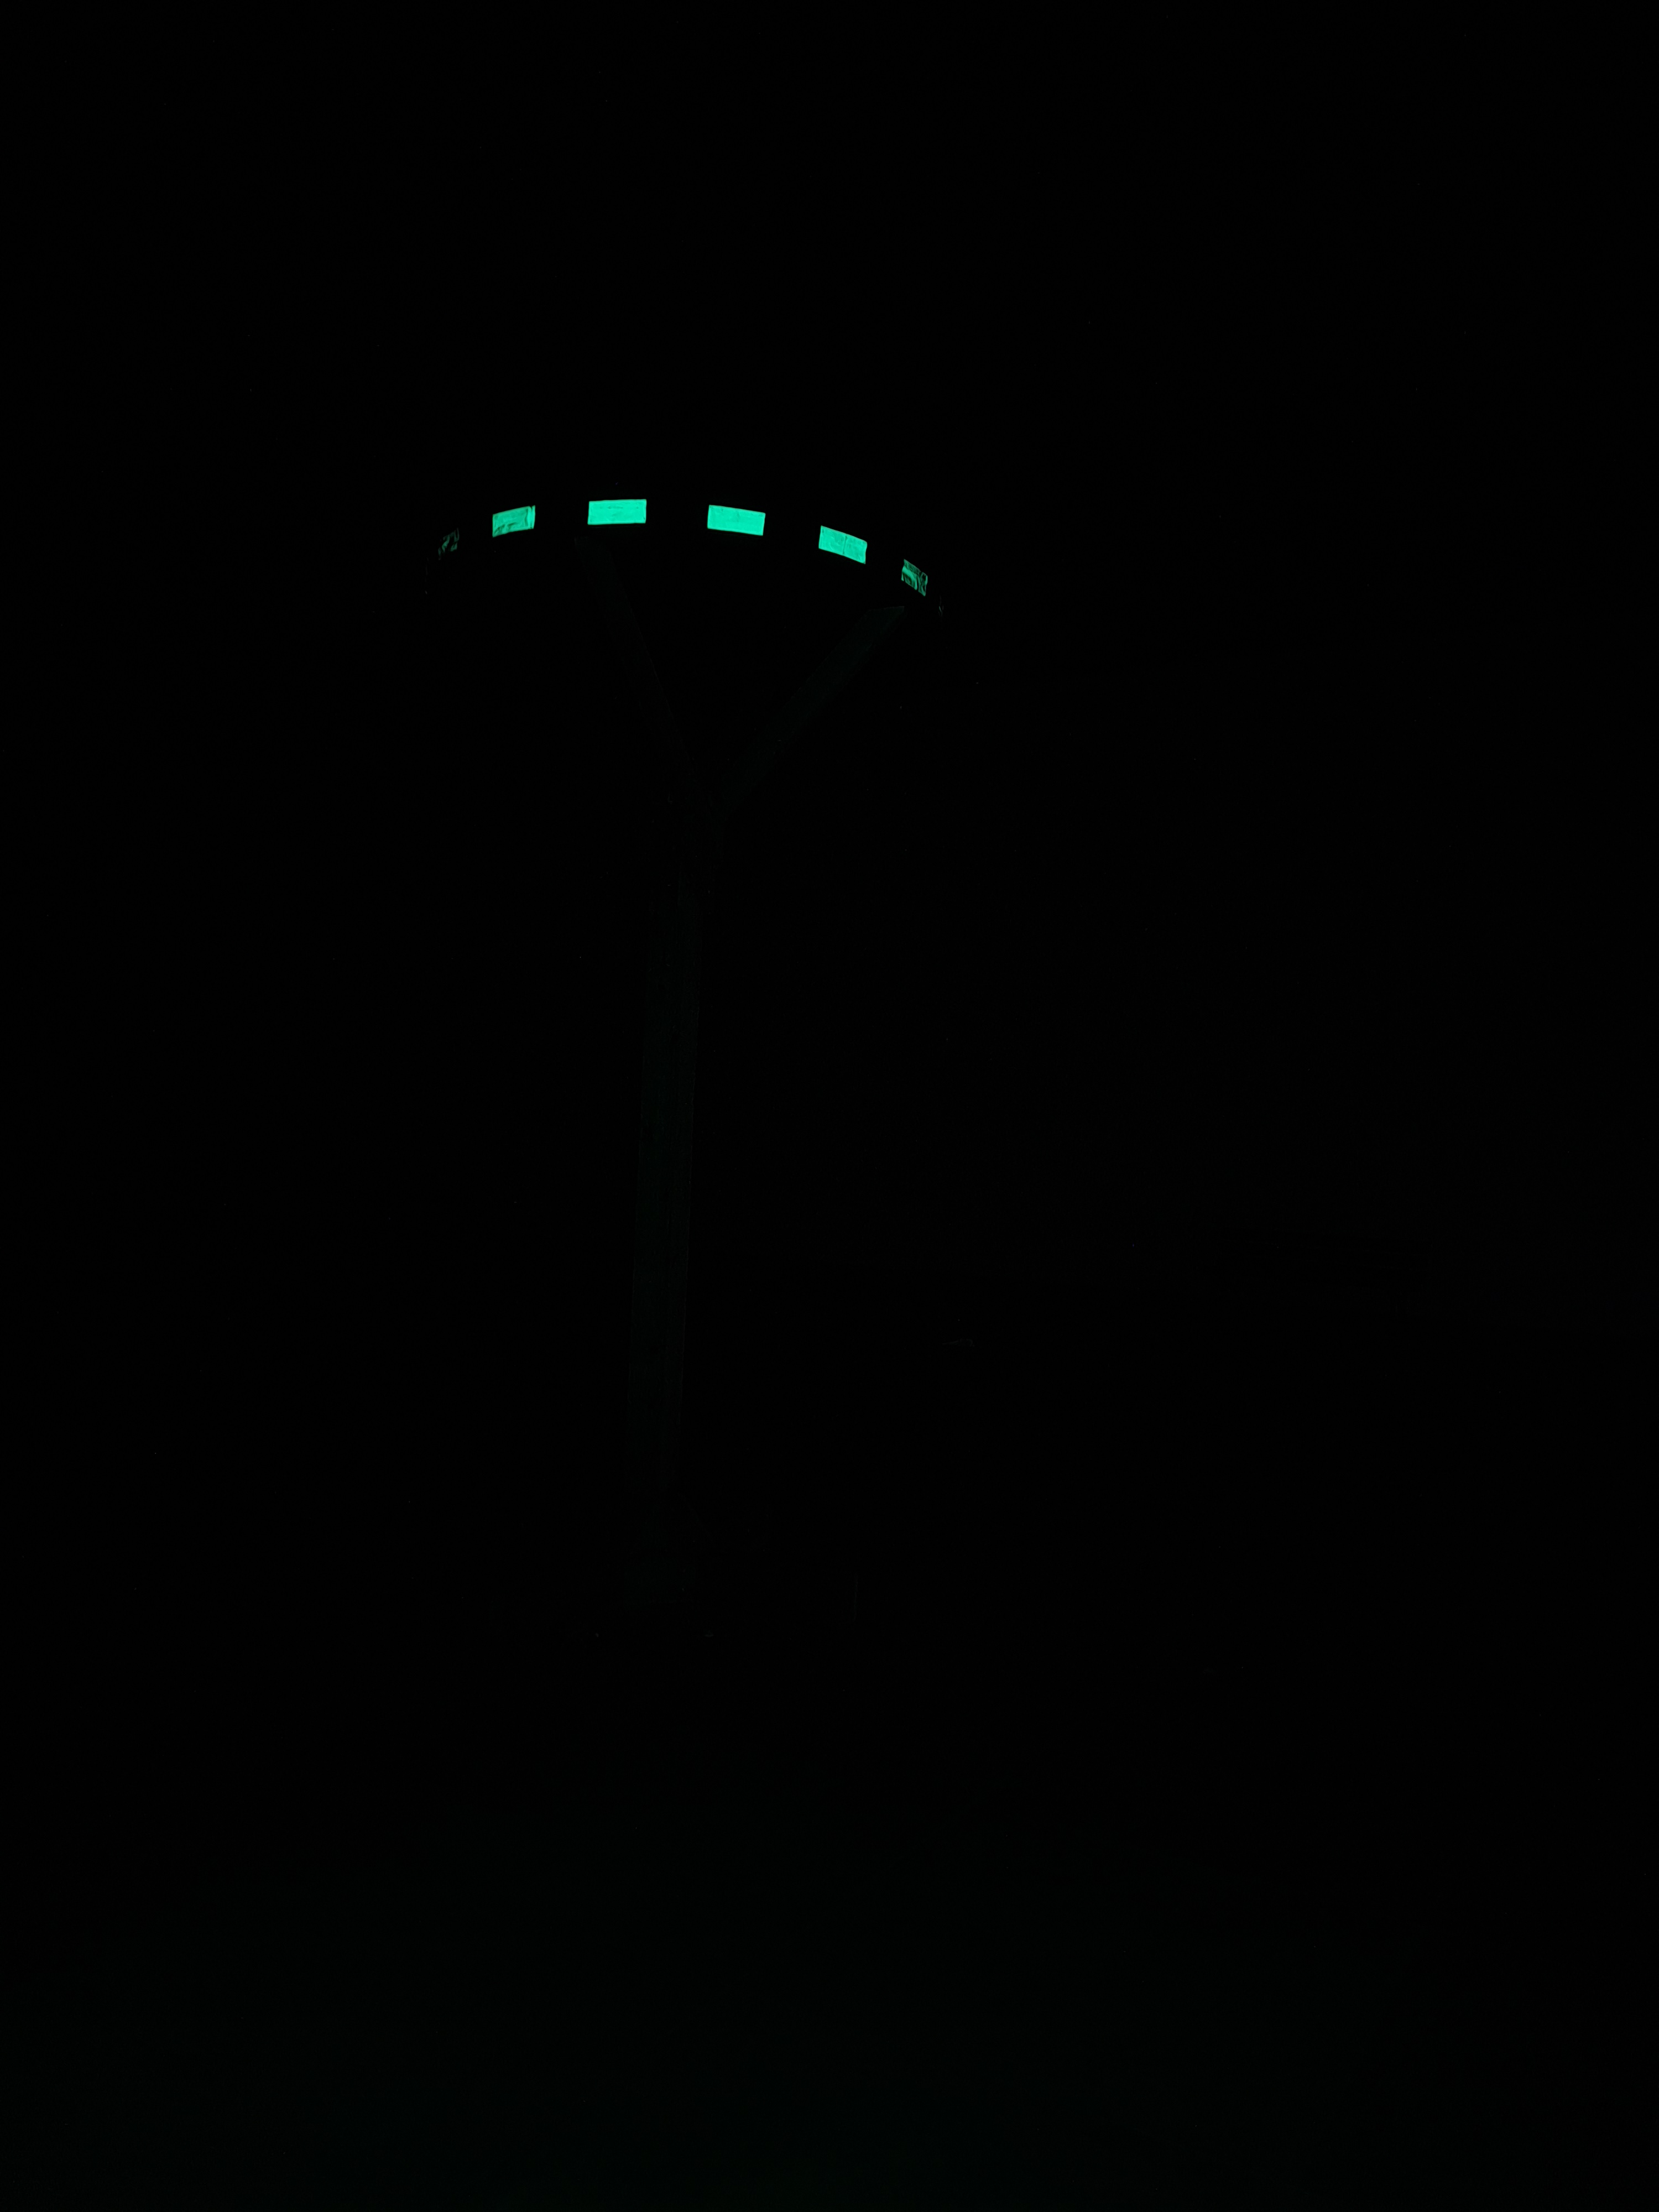hoop: (420, 486, 958, 637)
